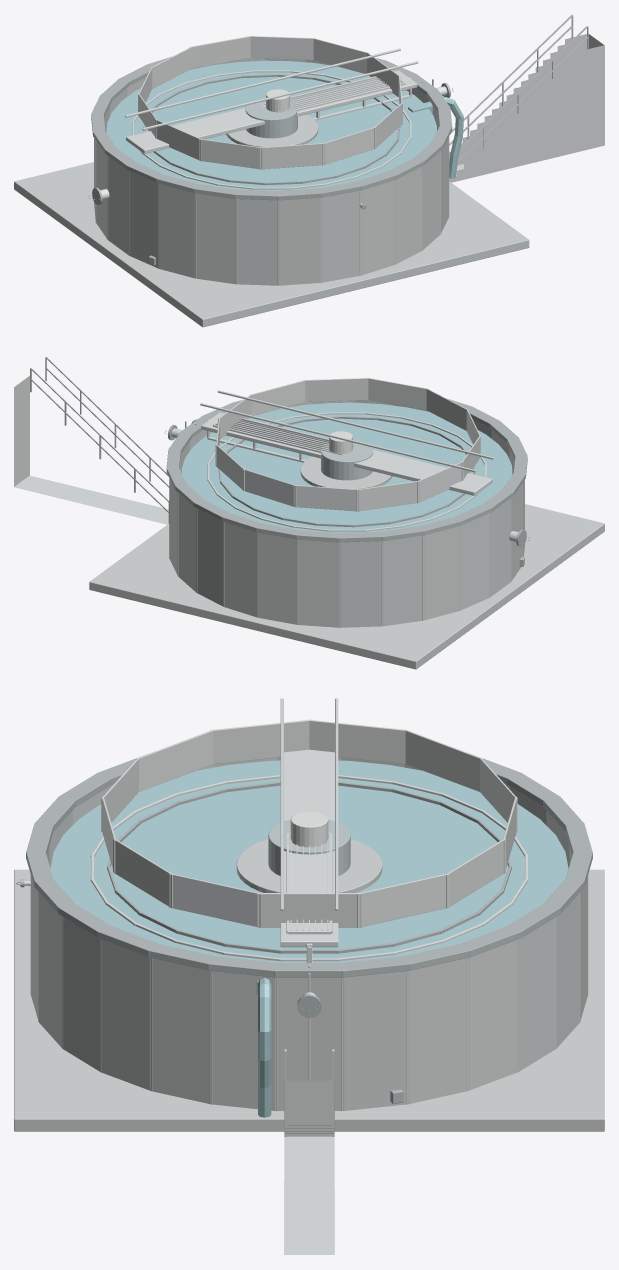
3 views of the same model, one above another, from view 1: azimuth 30°, elevation 25°; view 2: azimuth 150°, elevation 25°; view 3: azimuth 270°, elevation 25° (orthographic). The views are drawn at different scales.
Visible parts, largest first — view 1: render-batch-3, render-batch-4, render-batch-0, render-batch-1, render-batch-5, render-batch-2, render-batch-6; view 2: render-batch-3, render-batch-4, render-batch-0, render-batch-1, render-batch-5, render-batch-2, render-batch-6; view 3: render-batch-3, render-batch-0, render-batch-4, render-batch-1, render-batch-5, render-batch-2, render-batch-6.
Part boxes in pixels (x1,y1,x2,y2): render-batch-3: (14,58,529,327); render-batch-4: (125,15,604,182); render-batch-0: (106,60,463,190); render-batch-1: (89,56,453,265); render-batch-5: (100,70,447,206); render-batch-2: (245,98,297,138); render-batch-6: (266,89,289,112); render-batch-3: (89,400,604,669); render-batch-4: (14,356,493,524); render-batch-0: (181,402,512,532); render-batch-1: (165,398,529,566); render-batch-5: (171,412,518,542); render-batch-2: (321,440,373,480); render-batch-6: (329,431,352,454); render-batch-3: (14,757,604,1131); render-batch-0: (50,760,568,1117); render-batch-4: (101,698,517,1254); render-batch-1: (16,753,592,1103); render-batch-5: (24,749,528,995); render-batch-2: (268,819,350,875); render-batch-6: (290,811,328,847).
Size of the model in its own units: 24.51 by 6.17 by 15.8.
